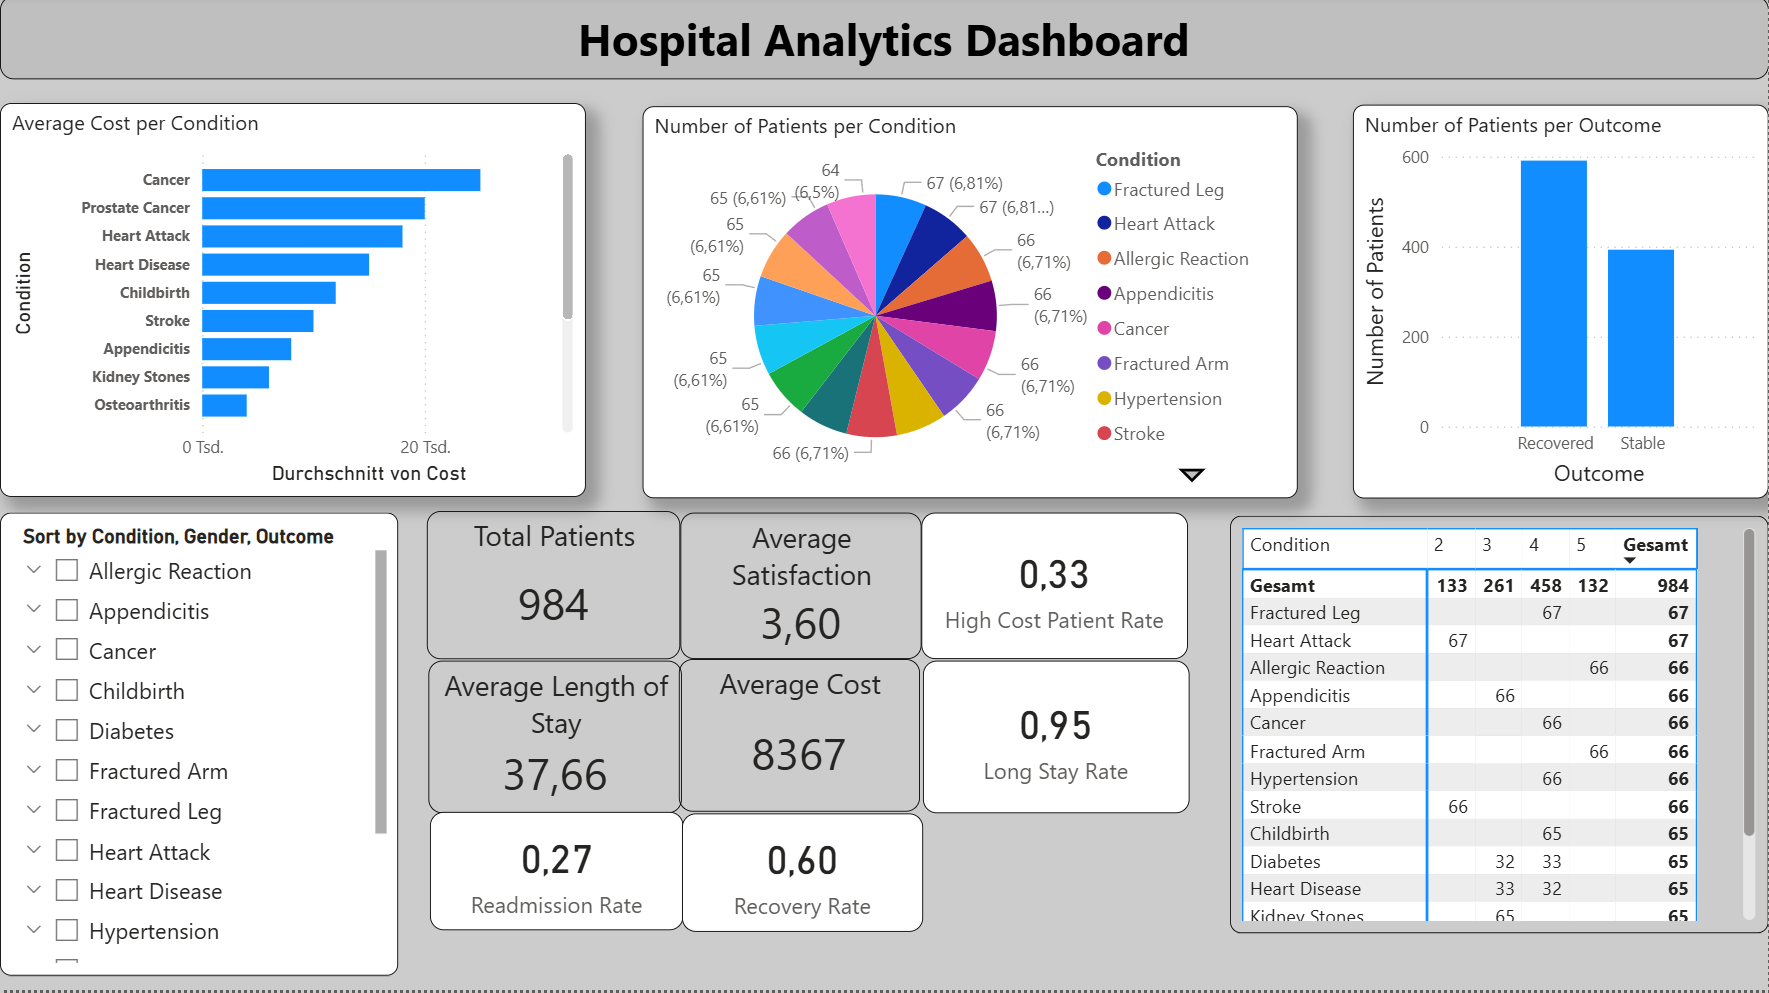

What the dashboard file says about the page in this screenshot:
{"tool":"powerbi","page":{"name":"Overview","canvas":[1280,720],"ordinal":0},"visuals":[{"type":"card","title":"Total Patients","fields":{"Values":["CountNonNull(Patients.Patient_ID)"]},"box":[309,372.9,183.6,107.2],"z":0},{"type":"card","title":"Average Satisfaction","fields":{"Values":["Avg(Patients.Satisfaction)"]},"box":[492.2,373.6,174.5,106],"z":1000},{"type":"card","title":"Average Length of Stay","fields":{"Values":["Avg(Patients.Length_of_Stay)"]},"box":[310.2,481.2,183.6,110.6],"z":2000},{"type":"card","title":"Average Cost","fields":{"Values":["Avg(Patients.Cost)"]},"box":[491.5,480.1,174.5,110.6],"z":3000},{"type":"pieChart","title":"Number of Patients per Condition","fields":{"Category":["Patients.Condition"],"Y":["CountNonNull(Patients.Patient_ID)"]},"box":[465.2,79.8,474.4,283.9],"z":4000},{"type":"clusteredColumnChart","title":"Number of Patients per Outcome","fields":{"Category":["Patients.Outcome"],"Y":["CountNonNull(Patients.Patient_ID)"]},"box":[979.5,78.7,301,285.1],"z":5000},{"type":"clusteredBarChart","title":"Average Cost per Condition","fields":{"Category":["Patients.Condition"],"Y":["Avg(Patients.Cost)"]},"box":[0,77.5,424.2,285.1],"z":6000},{"type":"slicer","fields":{"Values":["Patients.Condition","Patients.Gender","Patients.Outcome"]},"box":[0,374,288.5,335.2],"z":7000},{"type":"card","fields":{"Values":["Patients.Readmission Rate"]},"box":[311.3,590.7,183.6,85.5],"z":8000},{"type":"pivotTable","fields":{"Columns":["Patients.Satisfaction"],"Values":["CountNonNull(Patients.Patient_ID)"],"Rows":["Patients.Condition"]},"box":[890.6,376.3,390,302.2],"z":9000},{"type":"card","fields":{"Values":["Patients.Recovery Rate"]},"box":[493.7,591.8,174.5,85.5],"z":10000},{"type":"card","fields":{"Values":["Patients.High Cost Patient Rate"]},"box":[667.1,374,192.7,106],"z":11000},{"type":"card","fields":{"Values":["Patients.Long Stay Rate"]},"box":[668.2,481.2,192.7,110.6],"z":12000},{"type":"textbox","box":[0,0,1280.5,60.4],"z":12001}]}

Visuals, with their boxes in screenshot pixels (x1, y1, x2, y2), scaled from the page's 1280x720 canvas onto the 1769x993 screenshot:
"Total Patients" card: [x1=427, y1=514, x2=681, y2=662]
"Average Satisfaction" card: [x1=680, y1=515, x2=921, y2=661]
"Average Length of Stay" card: [x1=429, y1=664, x2=682, y2=816]
"Average Cost" card: [x1=679, y1=662, x2=920, y2=815]
"Number of Patients per Condition" pieChart: [x1=643, y1=110, x2=1299, y2=502]
"Number of Patients per Outcome" clusteredColumnChart: [x1=1354, y1=109, x2=1768, y2=502]
"Average Cost per Condition" clusteredBarChart: [x1=0, y1=107, x2=586, y2=500]
slicer - Patients.Condition x Patients.Gender: [x1=0, y1=516, x2=399, y2=978]
card - Patients.Readmission Rate: [x1=430, y1=815, x2=684, y2=933]
pivotTable - Patients.Satisfaction x CountNonNull(Patients.Patient_ID): [x1=1231, y1=519, x2=1768, y2=936]
card - Patients.Recovery Rate: [x1=682, y1=816, x2=923, y2=934]
card - Patients.High Cost Patient Rate: [x1=922, y1=516, x2=1188, y2=662]
card - Patients.Long Stay Rate: [x1=923, y1=664, x2=1190, y2=816]
textbox: [x1=0, y1=0, x2=1768, y2=83]
